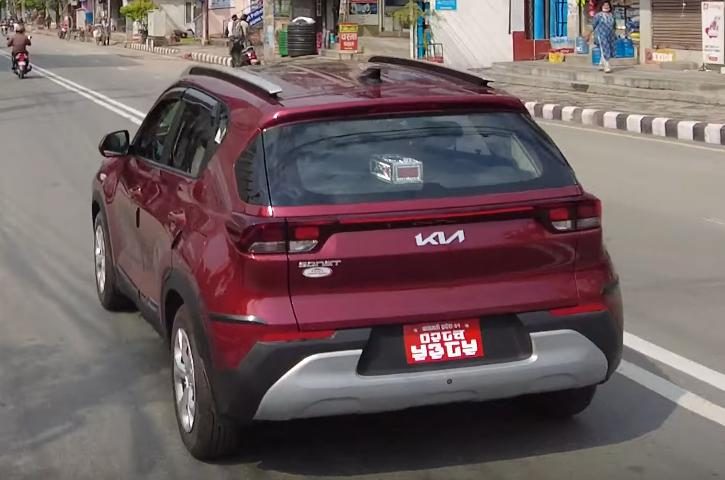car: (91, 59, 631, 466)
scooter: (4, 34, 36, 78), (224, 37, 261, 67)
